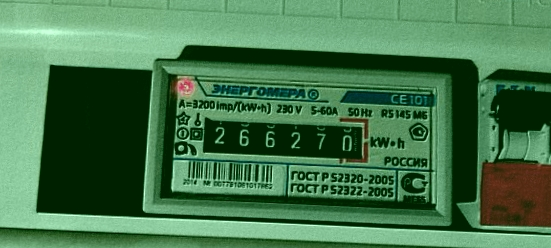0: (339, 132, 354, 153)
2: (212, 124, 226, 146), (289, 130, 303, 151)
6: (237, 127, 250, 148), (263, 129, 277, 148)
7: (315, 131, 326, 151)
screen: (190, 106, 375, 170)
